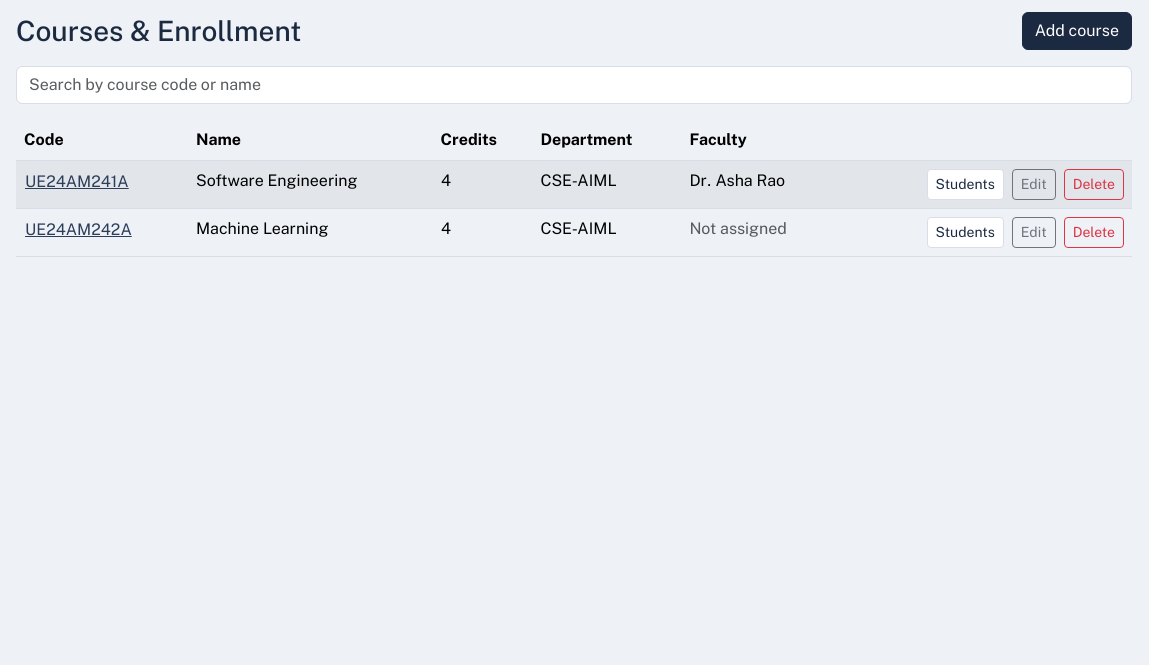
Test: Enrollment panel (issue #12) › shows the roster and offers only students not yet enrolled
The image size is (1149, 665).
Step 1. Click the button with aria-label "Students in UE24AM241A" → (965, 184), box [926,169,1004,200]
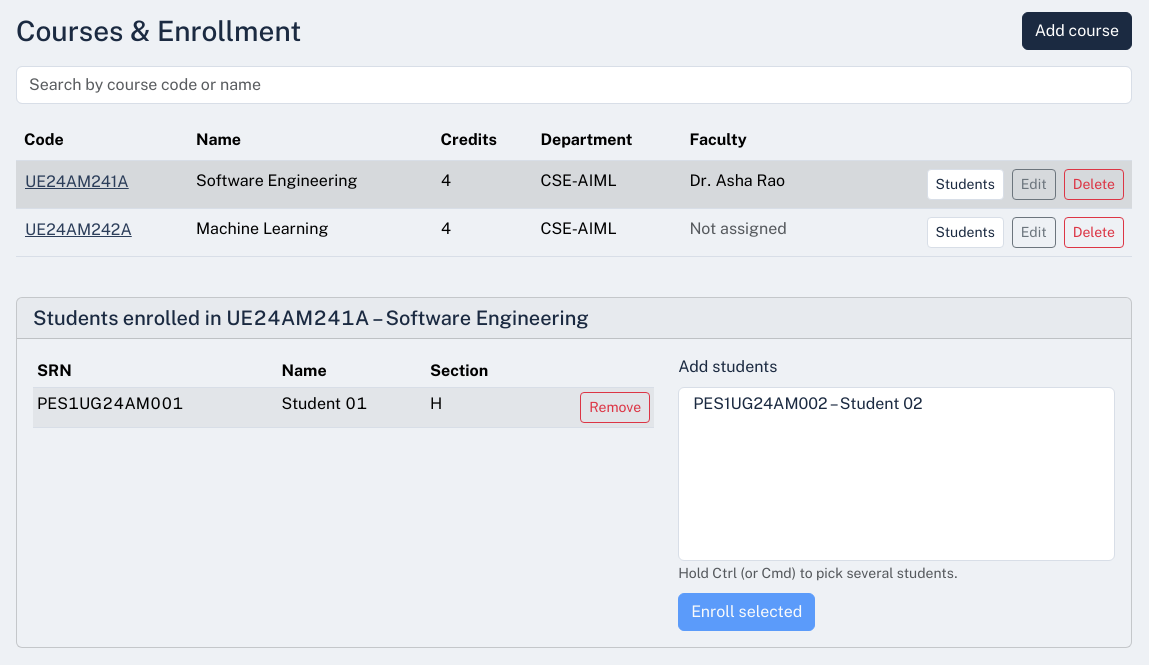
Expected: the button with aria-label "Remove PES1UG24AM001" is shown, [580,392,650,423]
